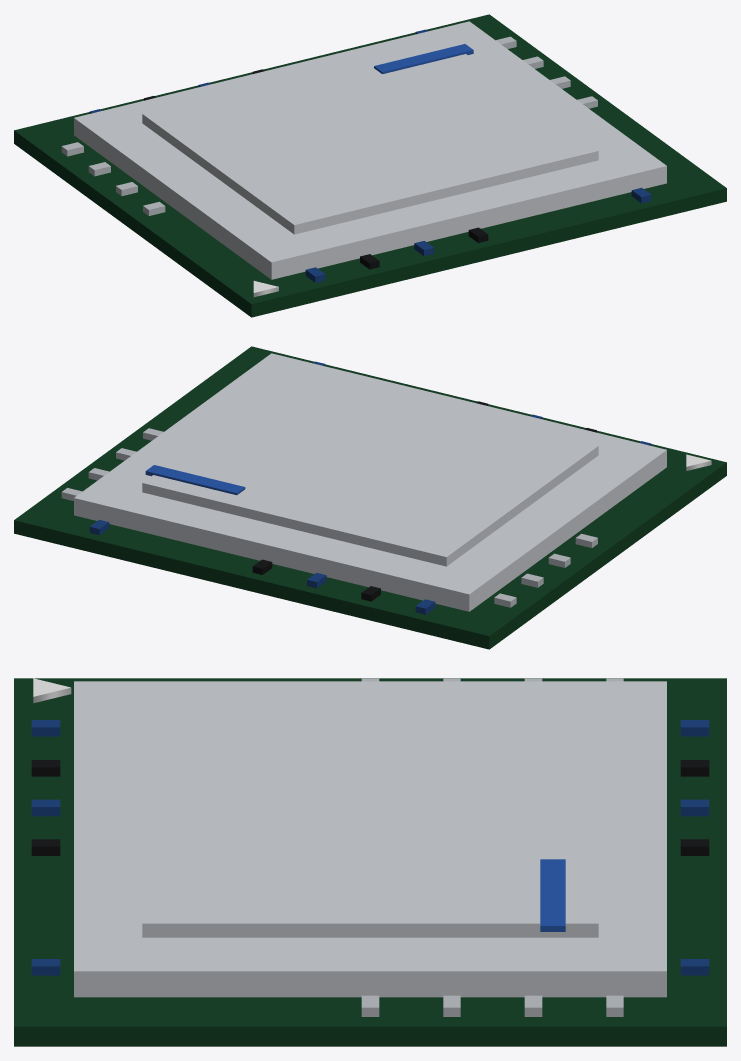
Rendered from hw_cpu_xeon_64c.glb.
3 renders of one model, top to bottom at view 1: azimuth 30°, elevation 25°; view 2: azimuth 150°, elevation 25°; view 3: azimuth 270°, elevation 25°, orthographic. The views are drawn at different scales.
Parts seen in each view (by area): view 1: Body; view 2: Body; view 3: Body.
Boxes of the visible parts, left/top/right/bottom form: Body: left=14, top=14, right=726, bottom=317; Body: left=14, top=346, right=726, bottom=649; Body: left=14, top=678, right=726, bottom=1046.
Size of the model in its own units: 0.052 by 0.00467 by 0.045.
